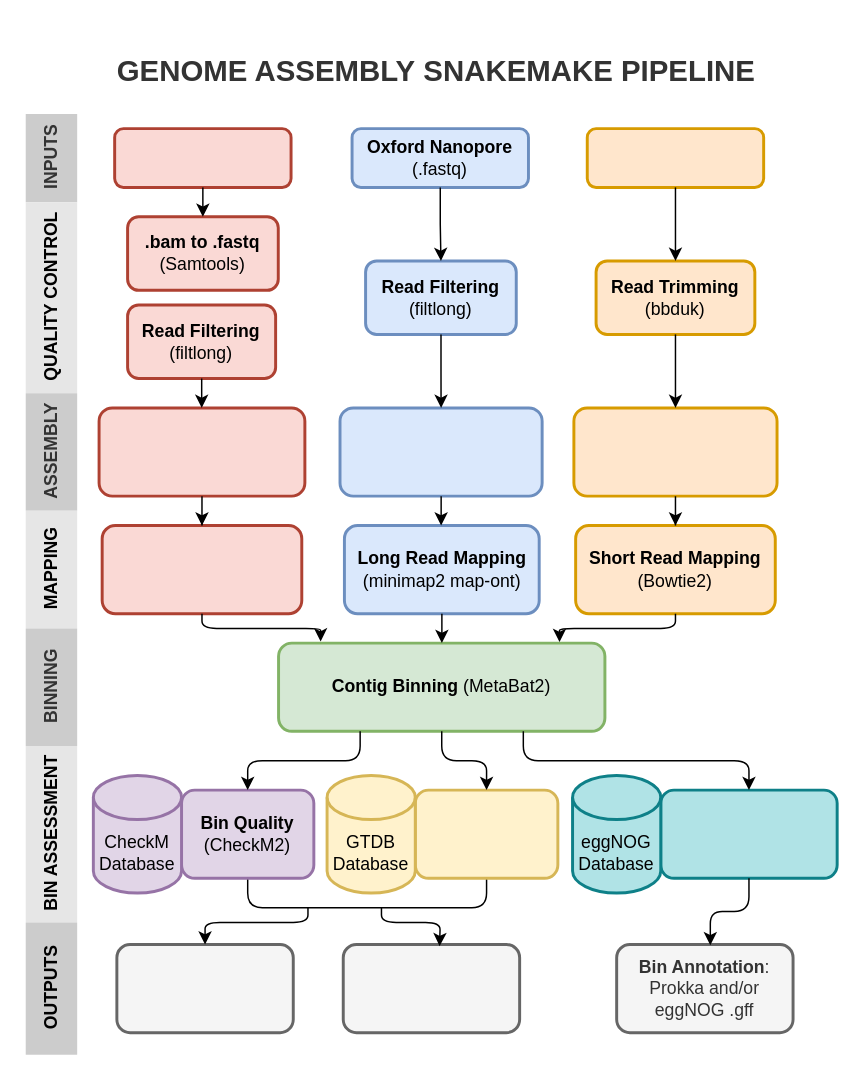
The diagram is 863 pixels wide and 1079 high, and some of its shapes have lost their labels. Here are the shapes that lost their labels. From the top down, the centre of each, then its label:
At (x=202, y=157): "PacBio Hifi (.bam)".
At (x=674, y=157): "Illumina (.fastq)".
At (x=201, y=451): "Long Read Assembly (Flye/metaFlye pacbio-hifi)".
At (x=440, y=451): "Long Read Assembly (Flye/metaFlye nano-corr)".
At (x=675, y=451): "Short Read Assembly (SPAdes)".
At (x=201, y=568): "Long Read Mapping (minimap2 map-hifi)".
At (x=486, y=833): "Taxonomic Classification (GTDB-tk)".
At (x=748, y=833): "Gene Annotation (Prokka and/or eggNOG-mapper)".
At (x=204, y=987): "Bin Metadata : quality, classification, contigs, etc.".
At (x=430, y=987): "Metadata Visualizations : quality, diversity, etc.".
